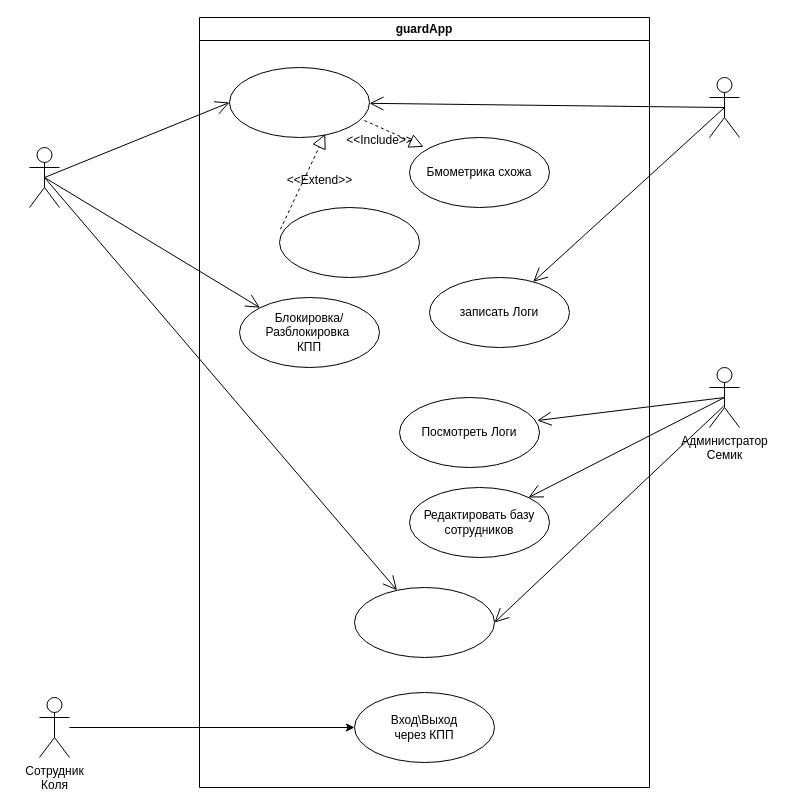
Some shapes in this 785 by 811 pixel diagram are drawn without their labels. Here are the shapes that lost their labels. From the top down, the centre of each, then its label:
pixel 299 102: Открыть турникет
pixel 724 107: Охранник Денисик AI
pixel 44 177: Охранник Денисик
pixel 349 242: Display Login Error
pixel 424 622: Поддержка
